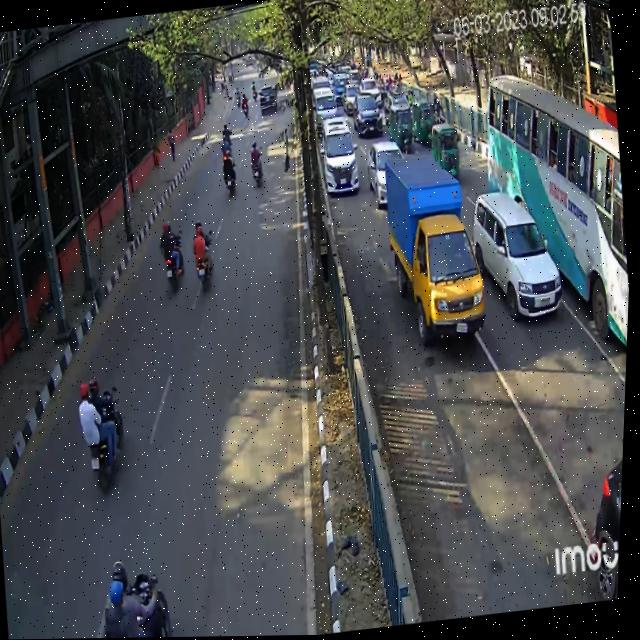cng: (428, 117, 465, 180), (386, 99, 420, 158)
